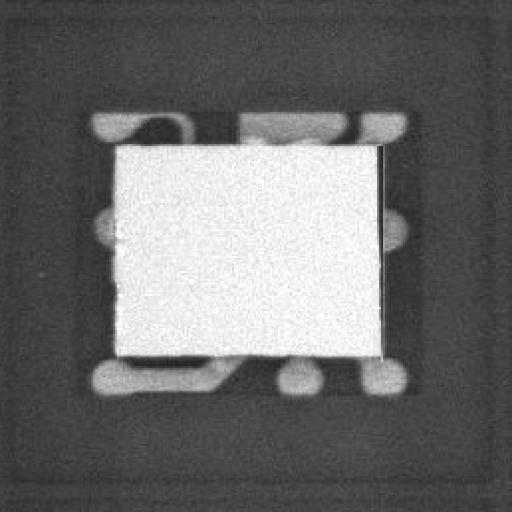DIE_BROKEN: (371, 138, 385, 260)
